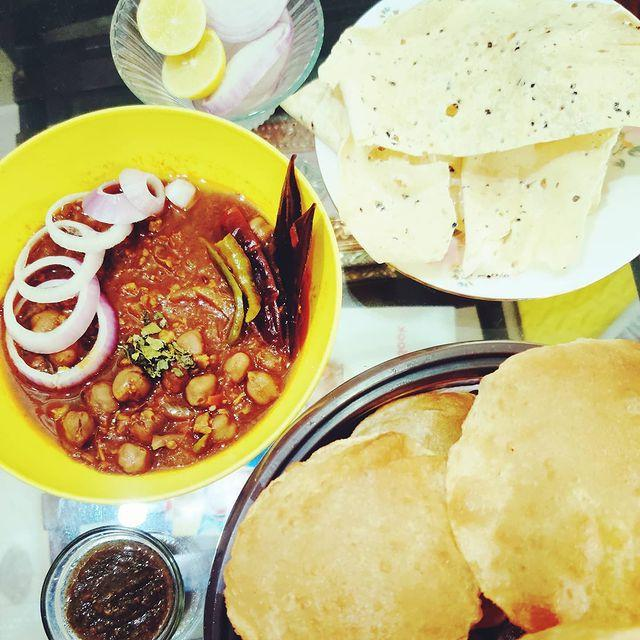Chole: (63, 326, 276, 470)
